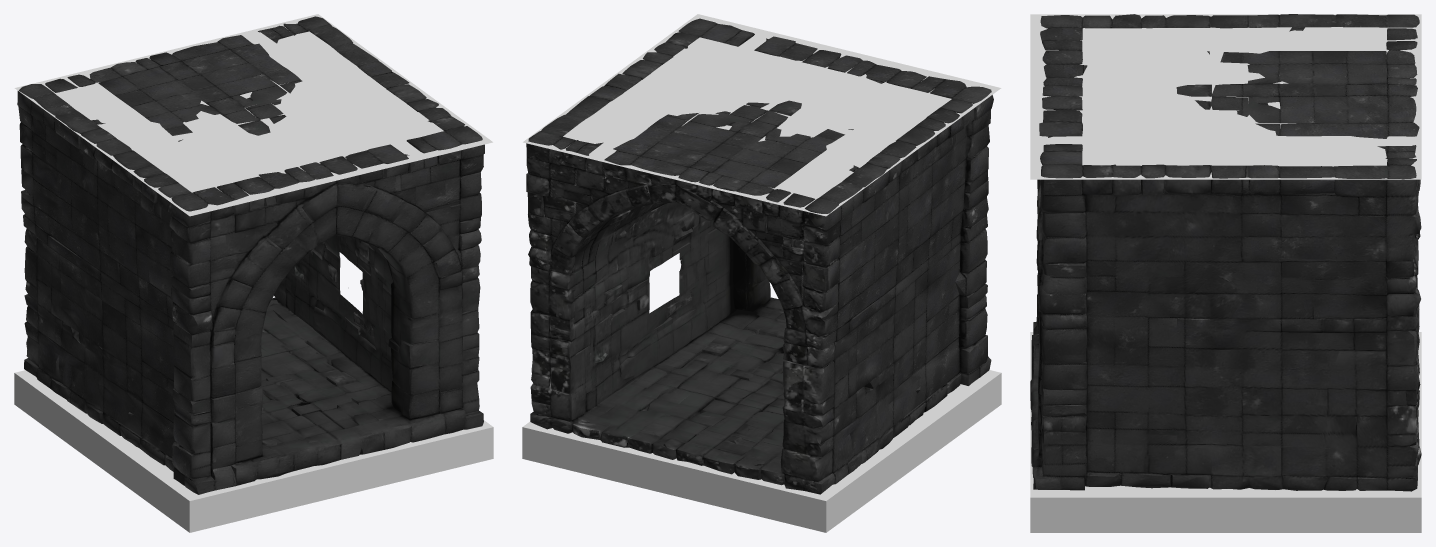
Rendered from module_straight_niche.glb.
3 views of the same model, side by side, from view 1: azimuth 30°, elevation 25°; view 2: azimuth 150°, elevation 25°; view 3: azimuth 270°, elevation 25° (orthographic). The views are drawn at different scales.
Parts seen in each view (by area): view 1: tripo_node_d1f22615-8681-4910-b354-69580f6371b2; view 2: tripo_node_d1f22615-8681-4910-b354-69580f6371b2; view 3: tripo_node_d1f22615-8681-4910-b354-69580f6371b2.
Part boxes in pixels (x1,y1,x2,y2): tripo_node_d1f22615-8681-4910-b354-69580f6371b2: (14,14,493,532); tripo_node_d1f22615-8681-4910-b354-69580f6371b2: (522,14,1001,532); tripo_node_d1f22615-8681-4910-b354-69580f6371b2: (1030,14,1421,532).
Size of the model in its own units: 6 by 6 by 6.
2 materials, 1 textured.
